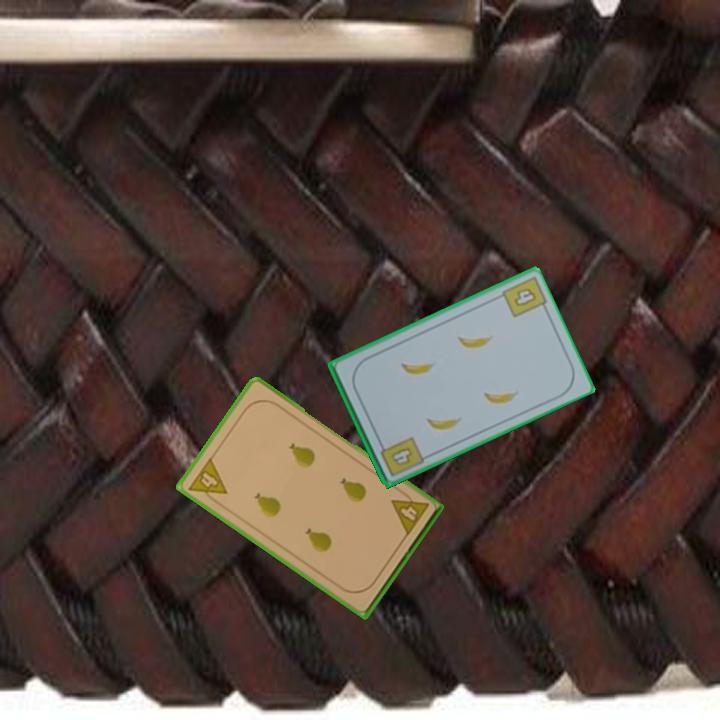4b: (375, 433, 426, 479), (511, 284, 539, 309)
4p: (185, 454, 230, 508), (387, 486, 432, 539)
